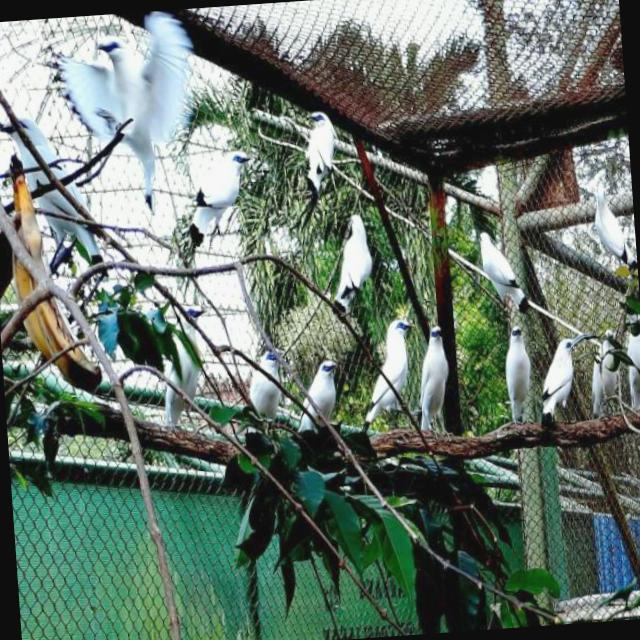Jalak Bali: (34, 8, 204, 220), (9, 102, 106, 288), (346, 298, 427, 452), (155, 288, 220, 447), (182, 134, 259, 261), (310, 206, 384, 320), (470, 218, 537, 340), (582, 166, 639, 301), (286, 92, 352, 206), (290, 347, 352, 463), (236, 328, 295, 446), (410, 320, 465, 444), (488, 319, 542, 436), (537, 327, 590, 425), (583, 320, 629, 421), (620, 316, 640, 420)
